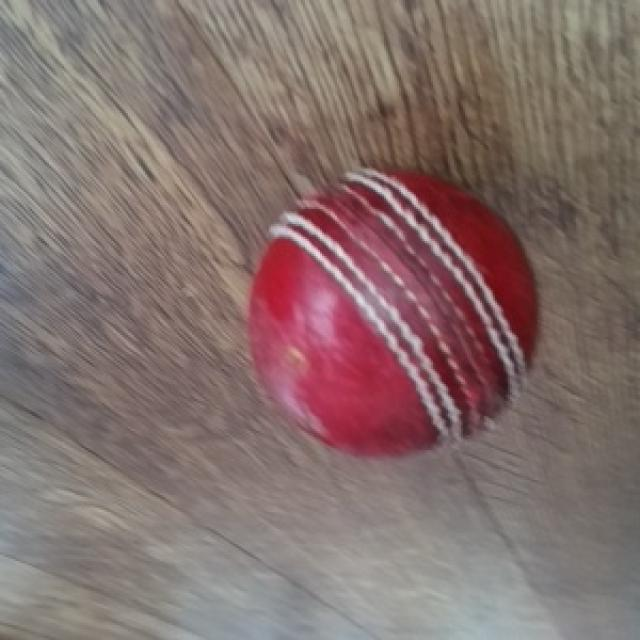ball: (245, 169, 542, 461)
